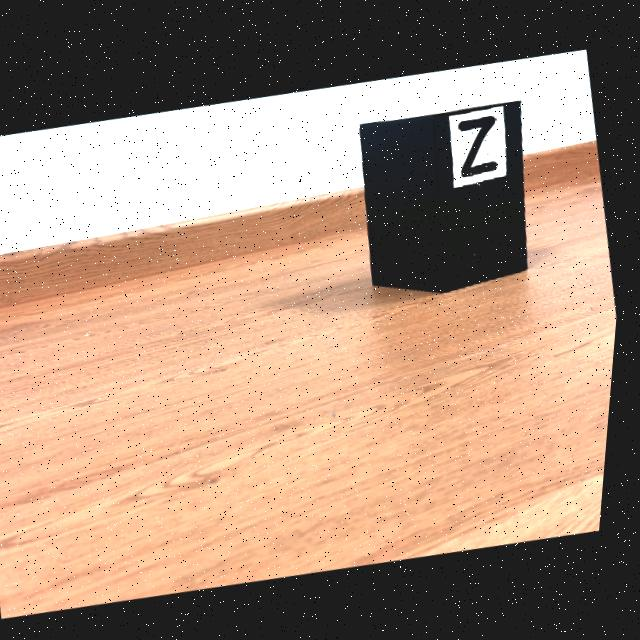Z: (461, 111, 501, 174)
